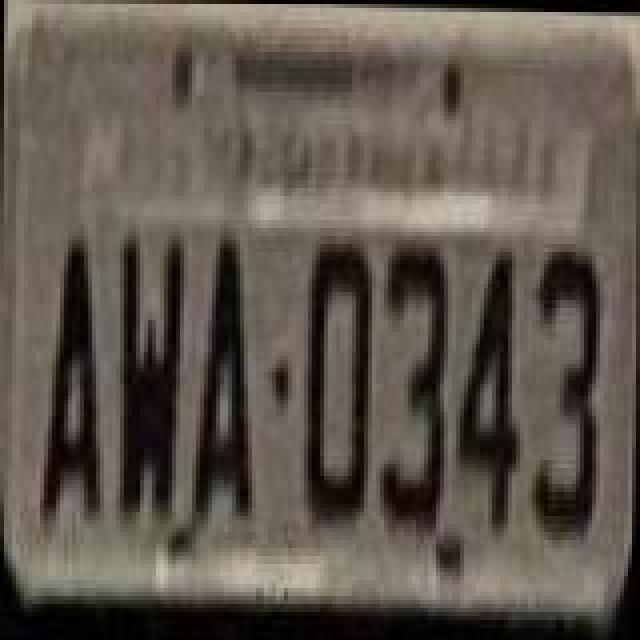3: (374, 234, 450, 538), (526, 238, 602, 542)
4: (456, 238, 528, 542)
A: (192, 224, 268, 528), (40, 228, 112, 532)
O: (302, 236, 378, 532)
W: (112, 228, 188, 524)
